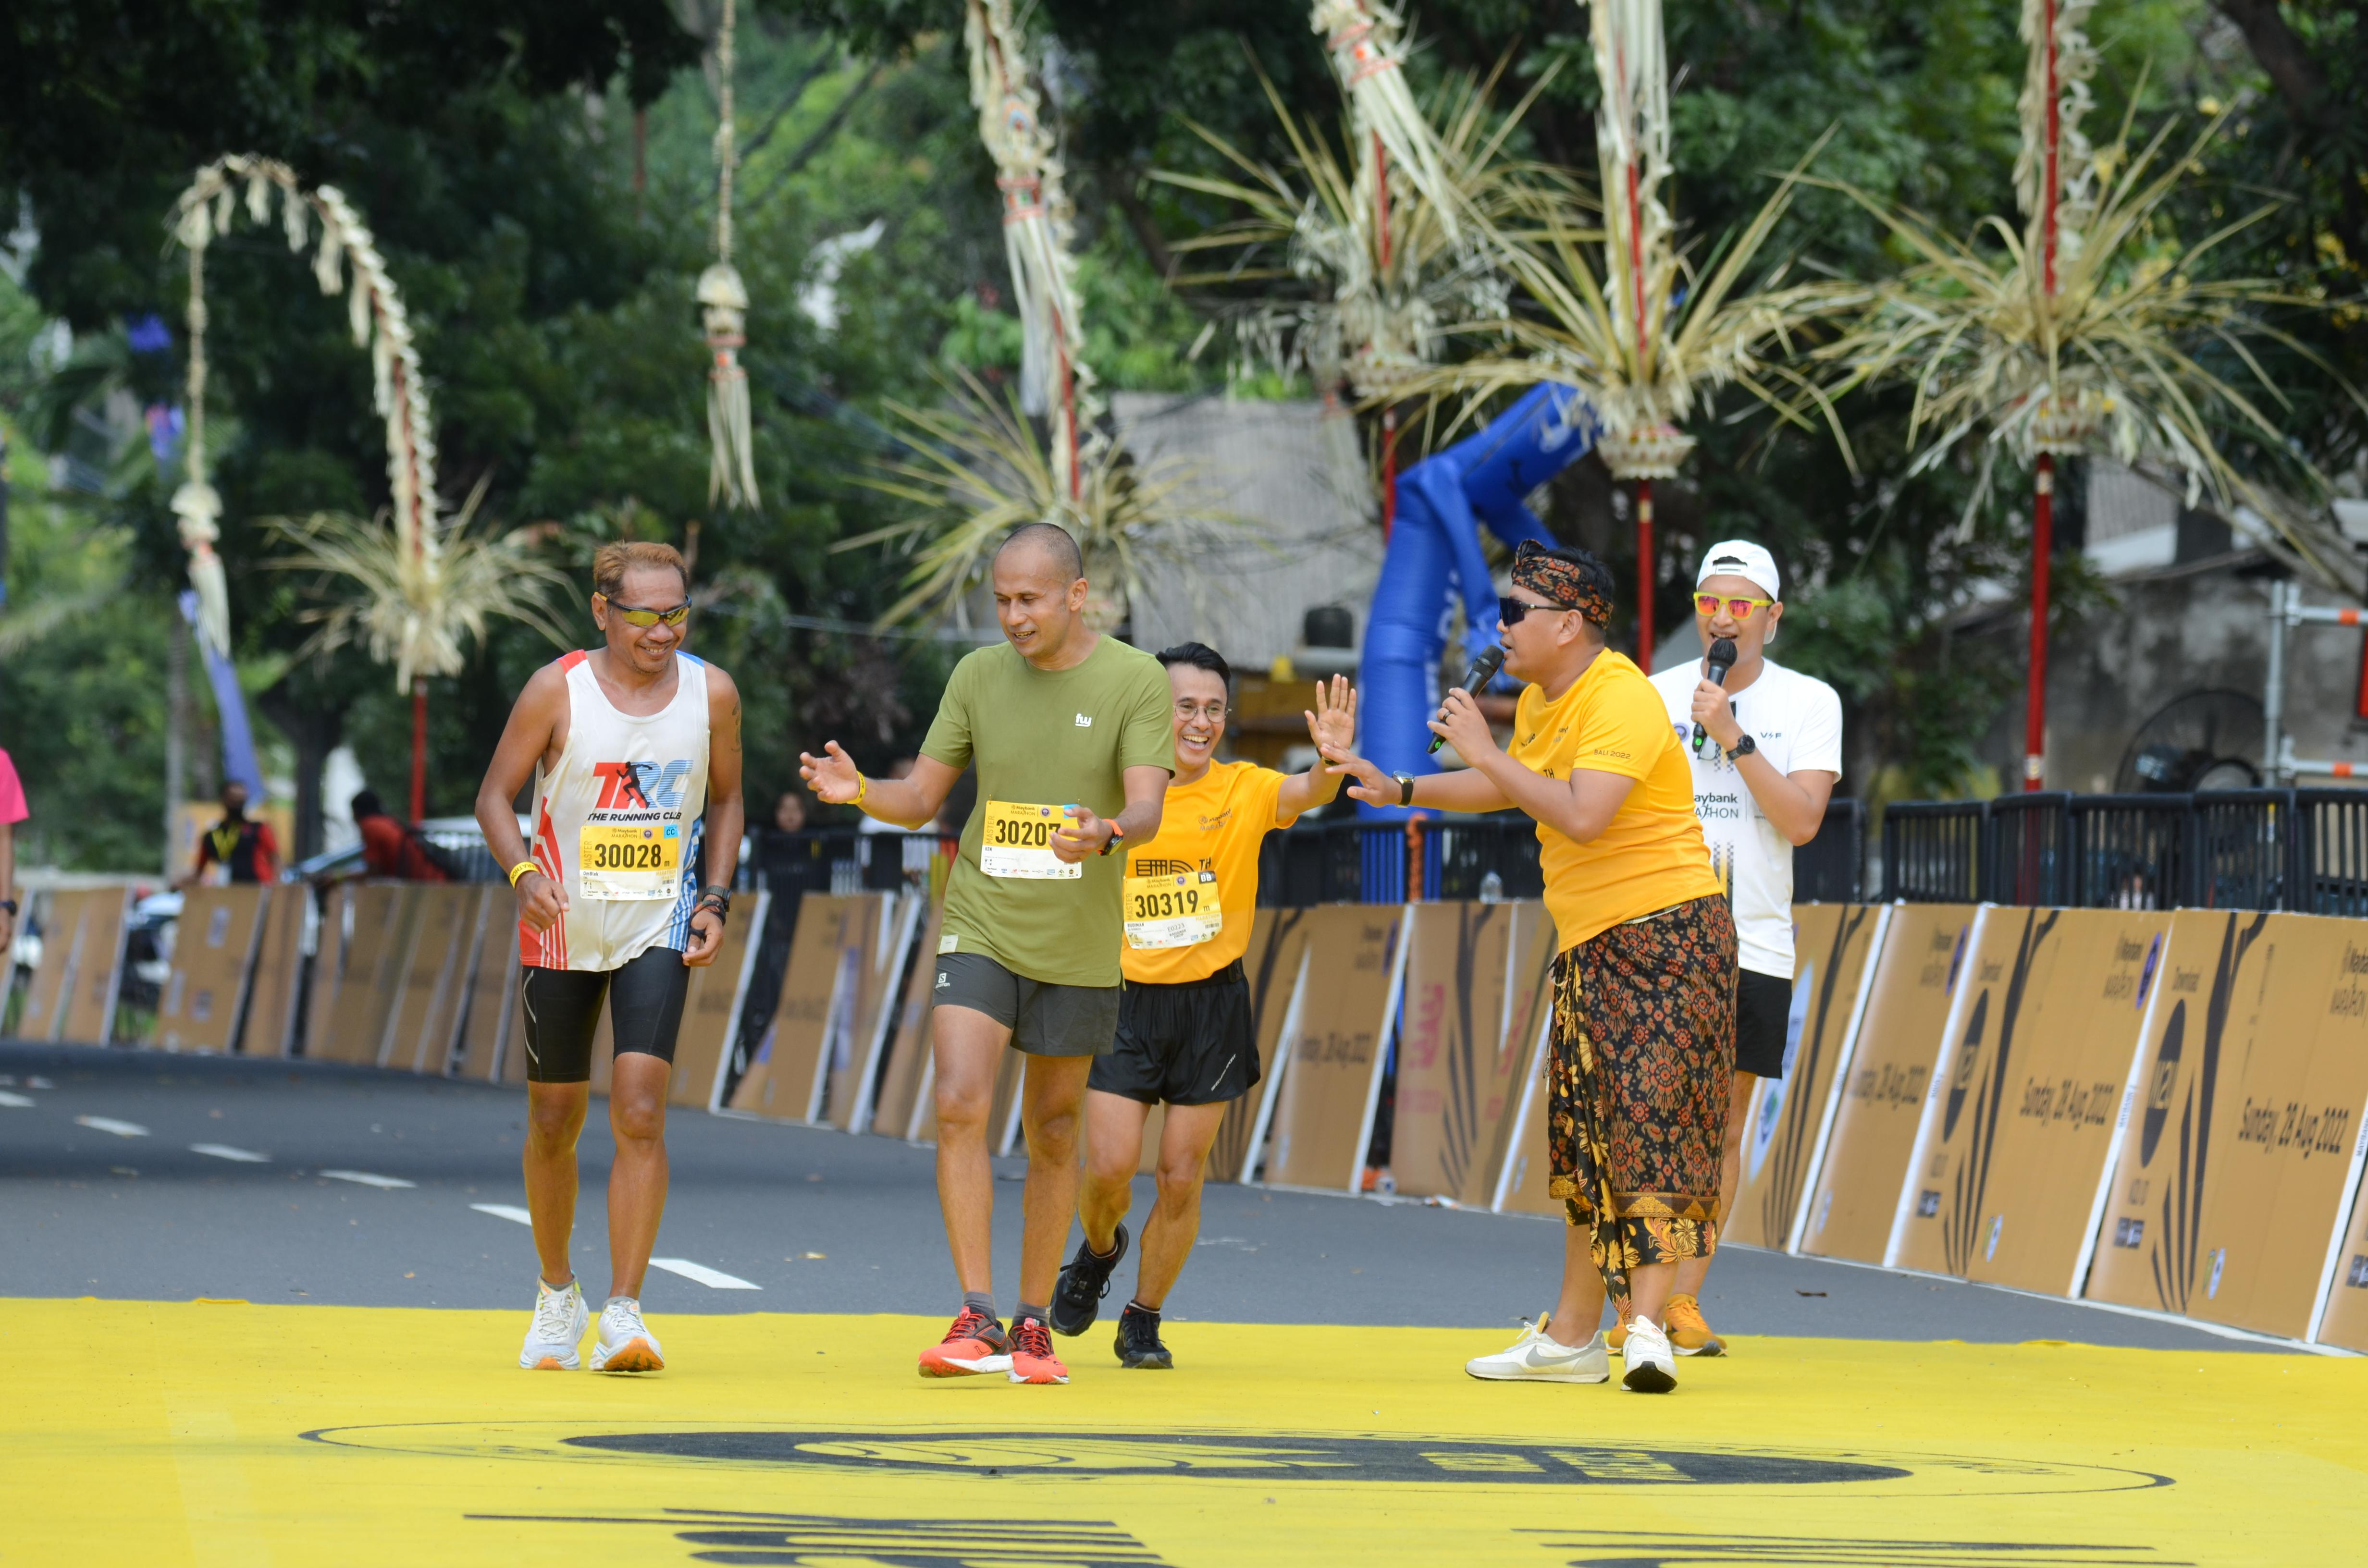bib: (982, 801, 1082, 879), (1122, 875, 1222, 948), (581, 826, 679, 898)
